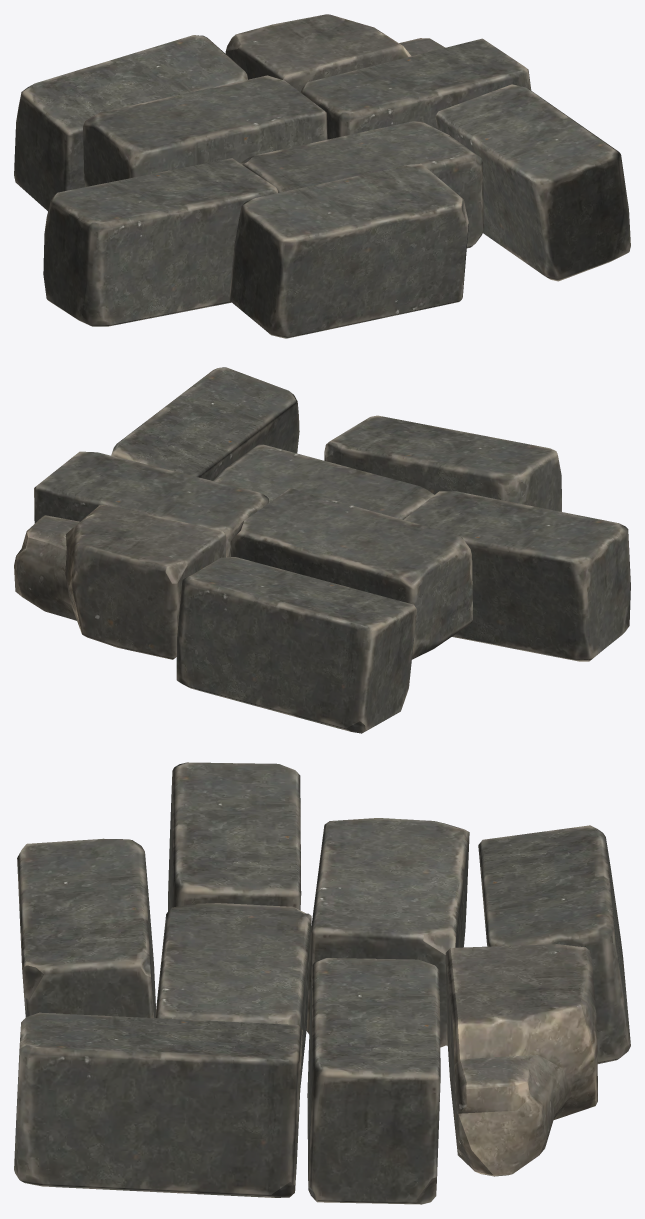
3 renders of one model, top to bottom at view 1: azimuth 30°, elevation 25°; view 2: azimuth 150°, elevation 25°; view 3: azimuth 270°, elevation 25°, orthographic. The views are drawn at different scales.
Visible parts, largest first — view 1: SM_Temple_Road_Stones_01_LOD0; view 2: SM_Temple_Road_Stones_01_LOD0; view 3: SM_Temple_Road_Stones_01_LOD0.
Boxes of the visible parts, bbox=[...] form: SM_Temple_Road_Stones_01_LOD0: bbox=[14, 14, 630, 338]; SM_Temple_Road_Stones_01_LOD0: bbox=[14, 367, 630, 733]; SM_Temple_Road_Stones_01_LOD0: bbox=[14, 762, 630, 1204].
Size of the model in its own units: 3.16 by 0.7516 by 2.64.
Materials: 1 (1 with a texture image).
